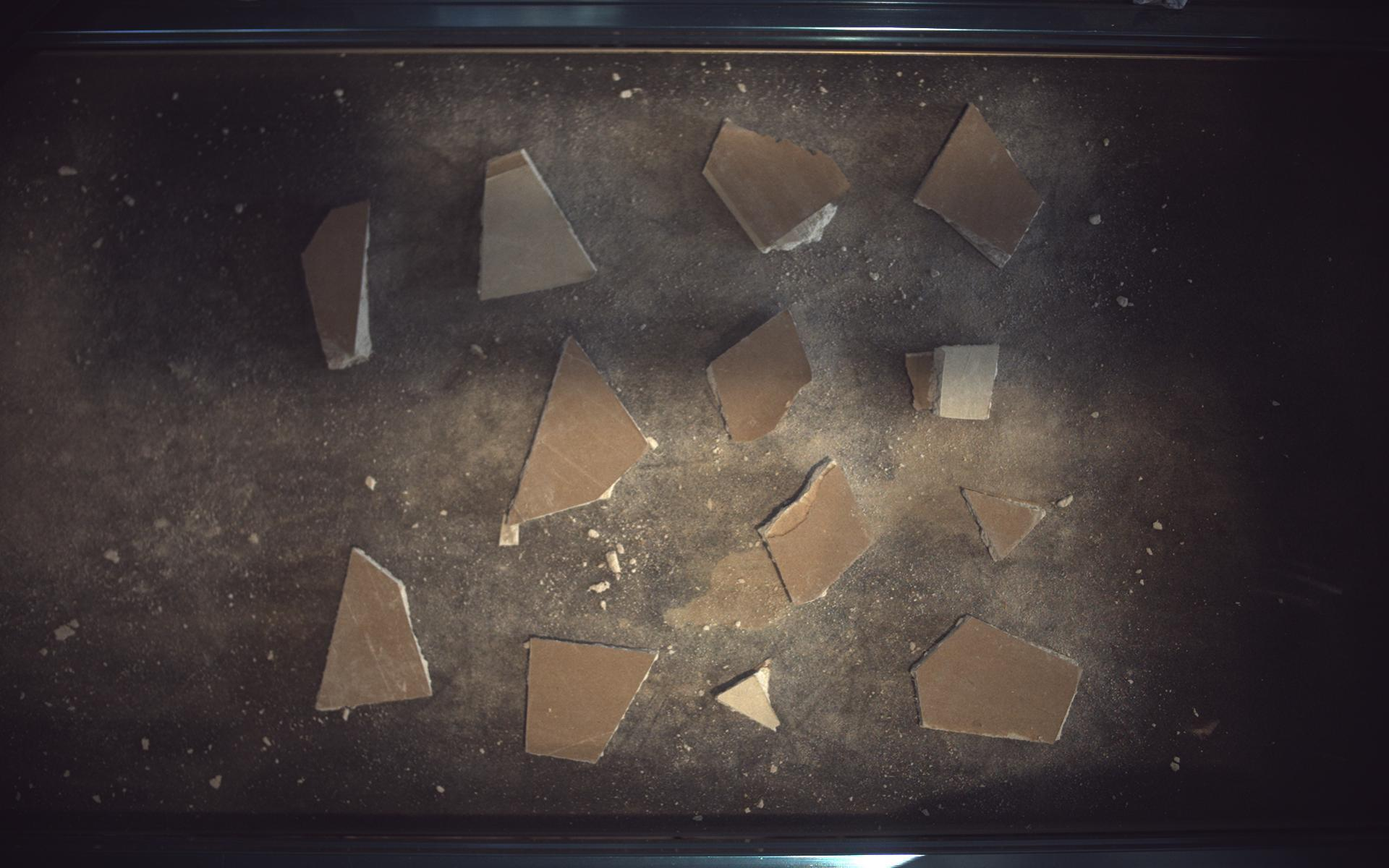gypsum_board: (500, 336, 657, 547), (914, 616, 1084, 745), (916, 103, 1045, 267), (704, 118, 851, 252), (315, 548, 432, 712), (478, 148, 598, 299), (526, 639, 659, 765), (760, 459, 872, 605), (709, 310, 812, 443), (301, 200, 372, 370), (907, 344, 1002, 420), (965, 489, 1049, 562), (717, 661, 781, 732)
